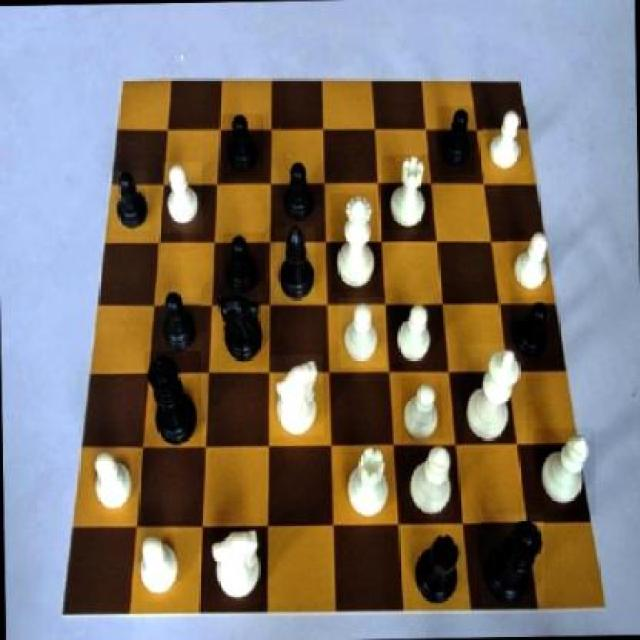bishop: (274, 226, 316, 302)
black-bishop: (144, 350, 202, 448)
black-king: (217, 286, 269, 369)
black-knight: (511, 296, 561, 362), (223, 232, 266, 302), (221, 114, 264, 178), (437, 104, 476, 174), (160, 288, 201, 354), (280, 158, 320, 221), (110, 170, 148, 232)
black-pawn: (480, 514, 545, 607)
black-queen: (412, 534, 466, 611)
black-rook: (532, 428, 595, 517), (404, 438, 454, 528)
white-bishop: (463, 343, 528, 447)
white-king: (270, 354, 324, 436), (211, 528, 266, 600)
white-knight: (132, 534, 186, 601), (388, 302, 440, 369), (482, 106, 528, 179), (339, 297, 386, 368), (89, 451, 137, 515), (162, 161, 202, 234), (506, 231, 551, 295), (400, 376, 442, 442)
white-pawn: (330, 192, 378, 292)
white-queen: (342, 445, 392, 522), (383, 154, 431, 230)
